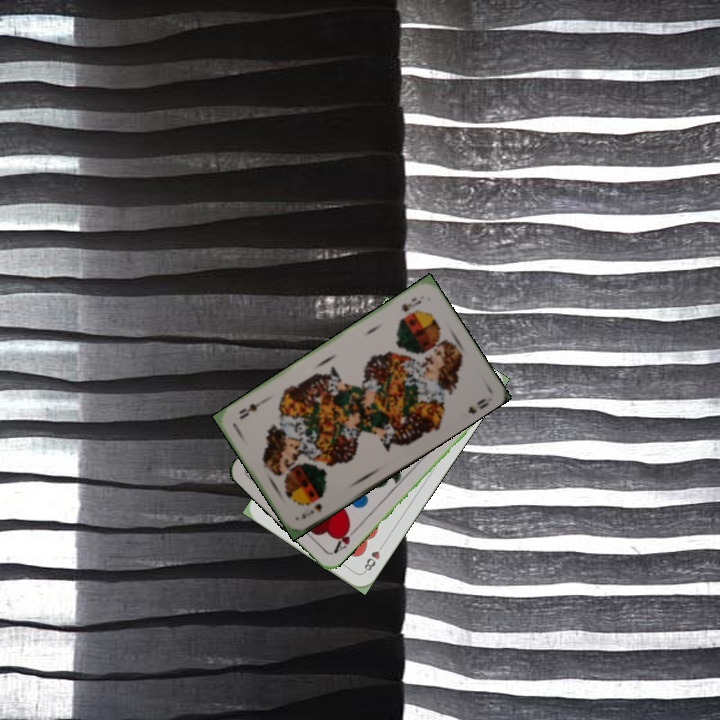H8: (359, 539, 387, 575)
HA: (330, 521, 361, 556)
SO: (297, 499, 325, 521), (397, 293, 424, 315)
